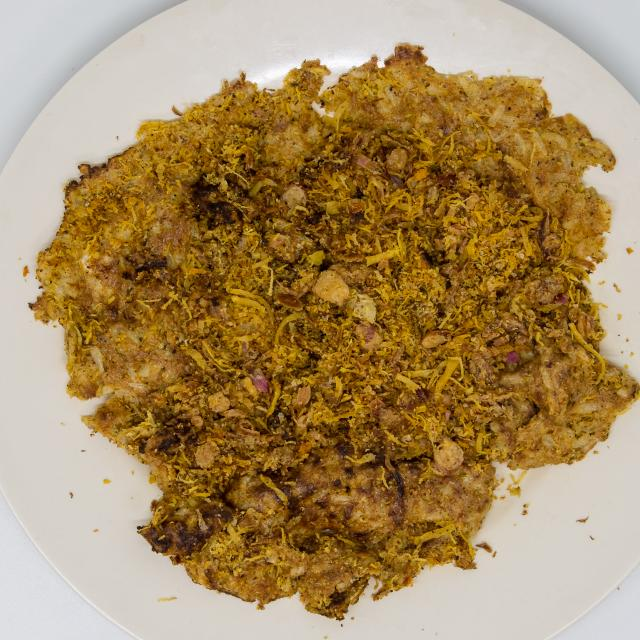Kerak-Telor: (31, 26, 631, 620)
